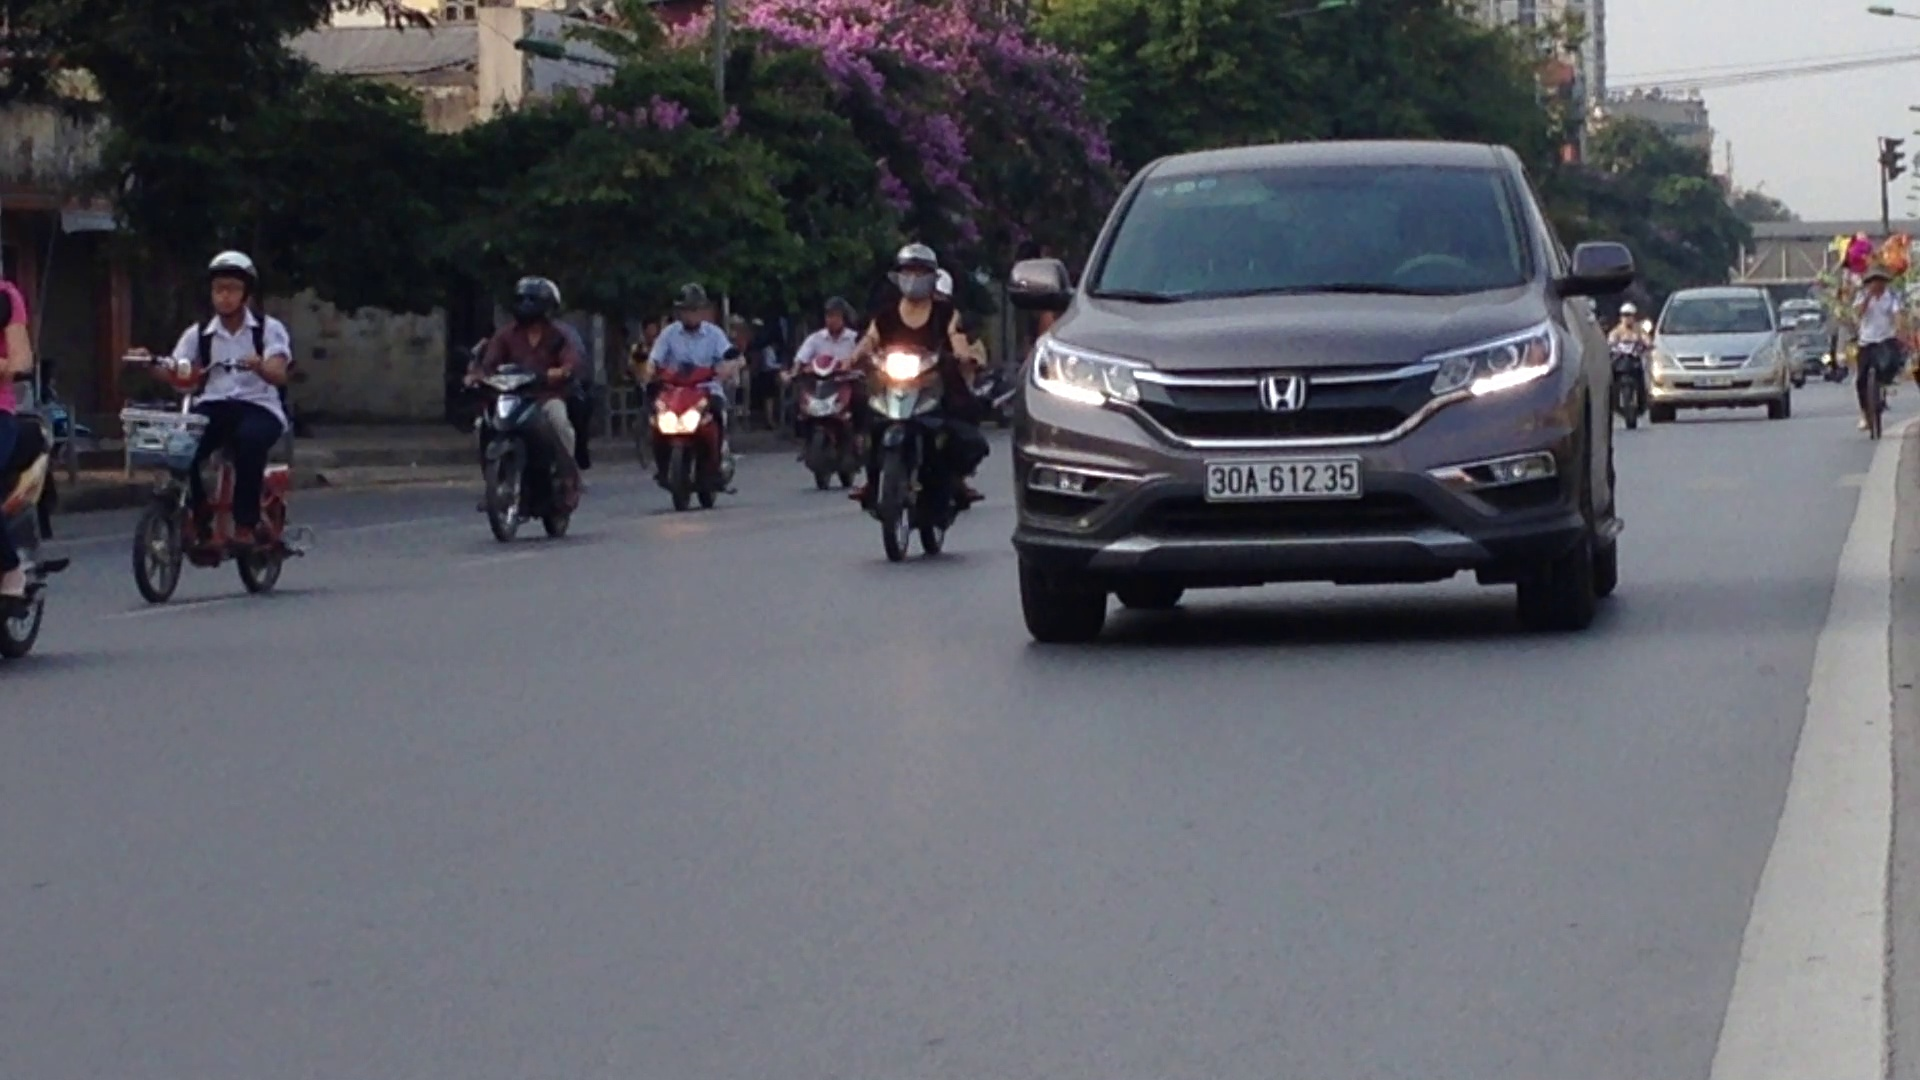person: (1201, 451, 1363, 504)
